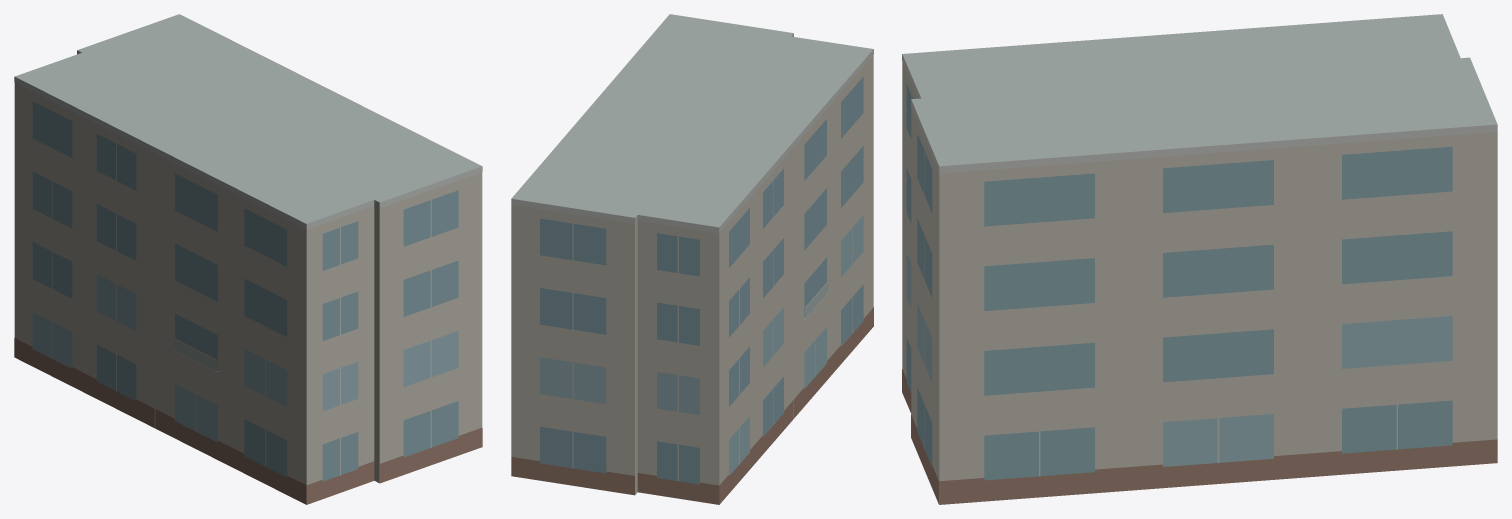
The model's file is survey-upis-32627722.glb.
3 views of the same model, side by side, from view 1: azimuth 30°, elevation 25°; view 2: azimuth 150°, elevation 25°; view 3: azimuth 270°, elevation 25° (orthographic). The views are drawn at different scales.
Visible parts, largest first — view 1: survey-upis-32627722.tmp; view 2: survey-upis-32627722.tmp; view 3: survey-upis-32627722.tmp.
Part boxes in pixels (x1,y1,x2,y2): survey-upis-32627722.tmp: (14, 14, 482, 504); survey-upis-32627722.tmp: (511, 14, 873, 504); survey-upis-32627722.tmp: (902, 14, 1497, 504).
Bounding box in the file's own units: 11.3 × 11.7 × 18.66.
